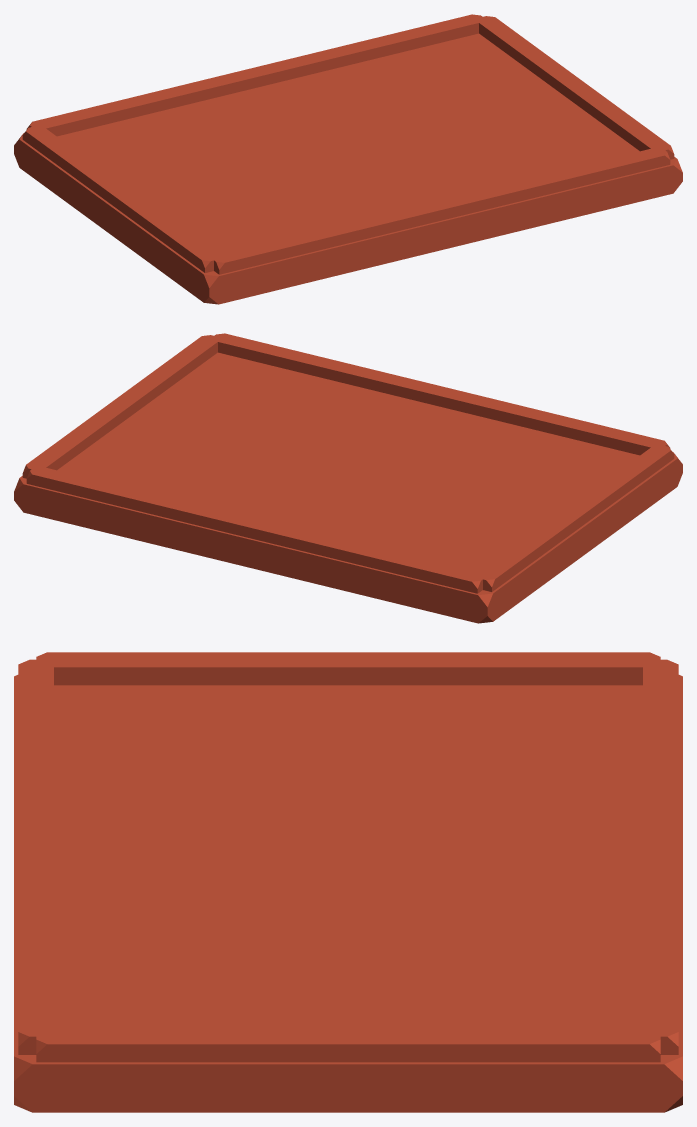
File: Tray.glb
3 renders of one model, top to bottom at view 1: azimuth 30°, elevation 25°; view 2: azimuth 150°, elevation 25°; view 3: azimuth 270°, elevation 25°, orthographic. The views are drawn at different scales.
Parts seen in each view (by area): view 1: Tray; view 2: Tray; view 3: Tray.
Boxes of the visible parts, bbox=[...] form: Tray: bbox=[14, 14, 682, 304]; Tray: bbox=[14, 333, 682, 623]; Tray: bbox=[14, 652, 682, 1112].
Bounding box in the file's own units: 0.42 × 0.033 × 0.3.
